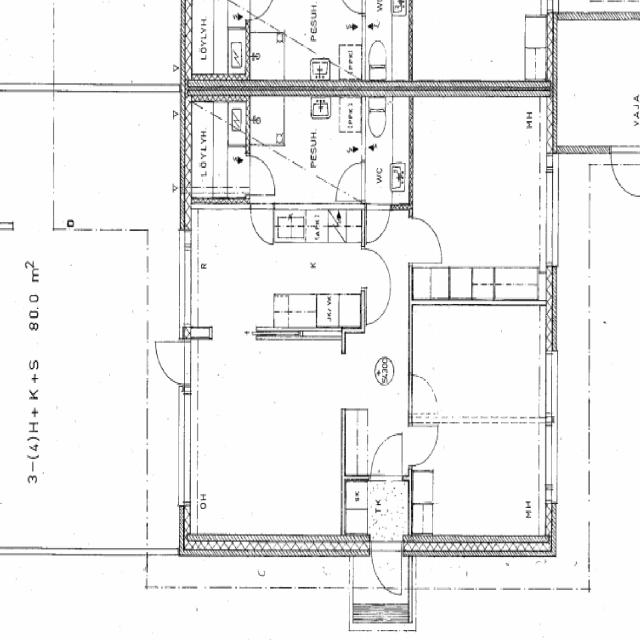door: (372, 536, 402, 600), (151, 342, 191, 384), (587, 145, 618, 199), (408, 311, 444, 357), (371, 428, 402, 481), (408, 218, 444, 263), (408, 426, 441, 466), (335, 162, 366, 201), (246, 154, 276, 194), (366, 204, 389, 244)
